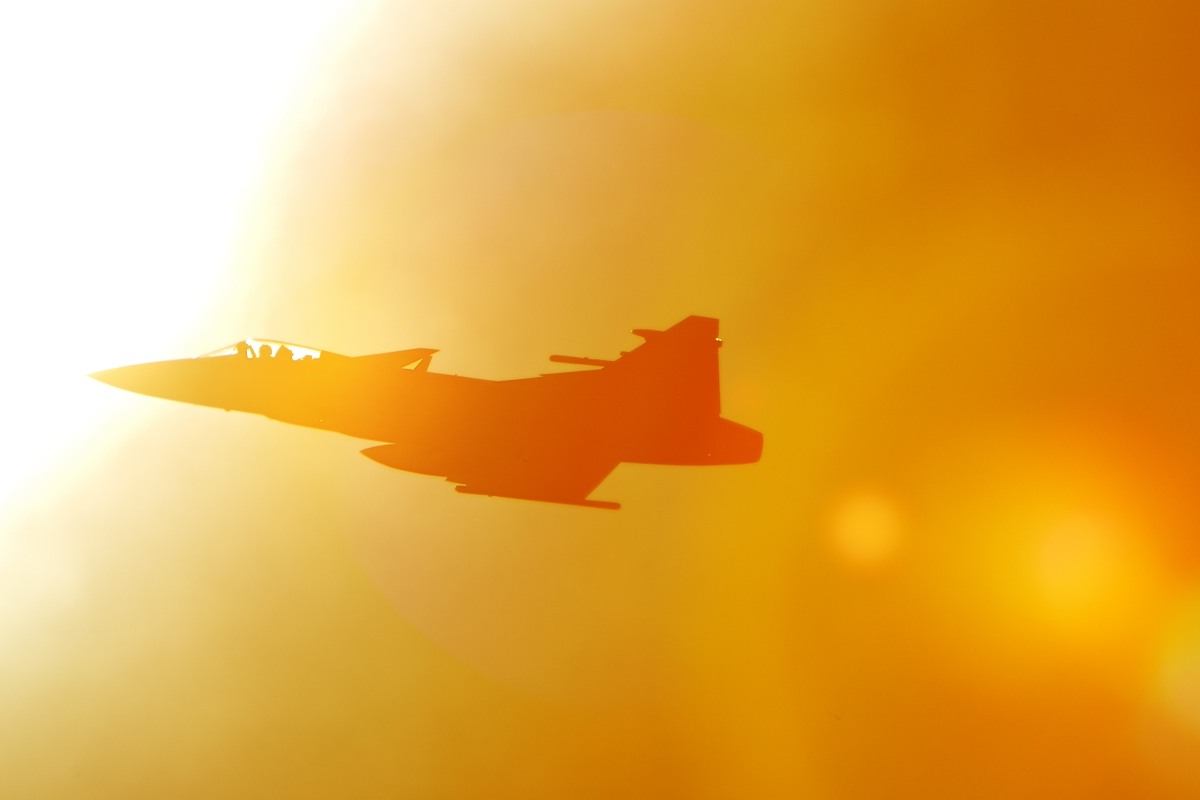JAS39: (81, 314, 764, 510)
